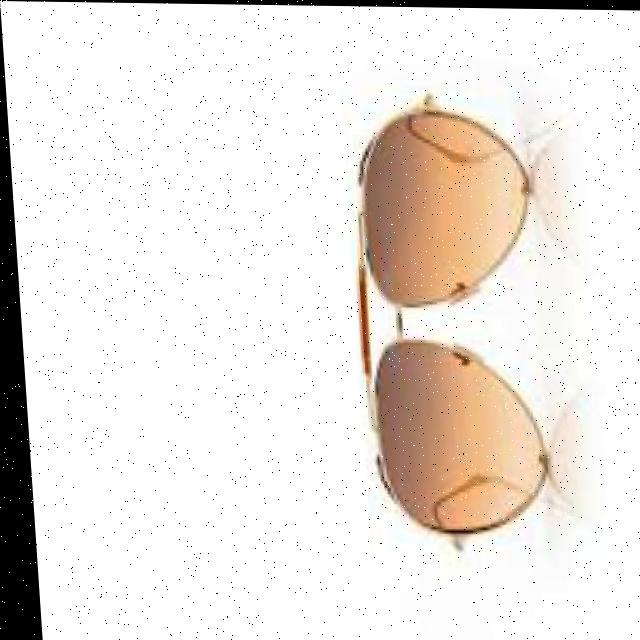gozluk: (329, 108, 574, 558)
